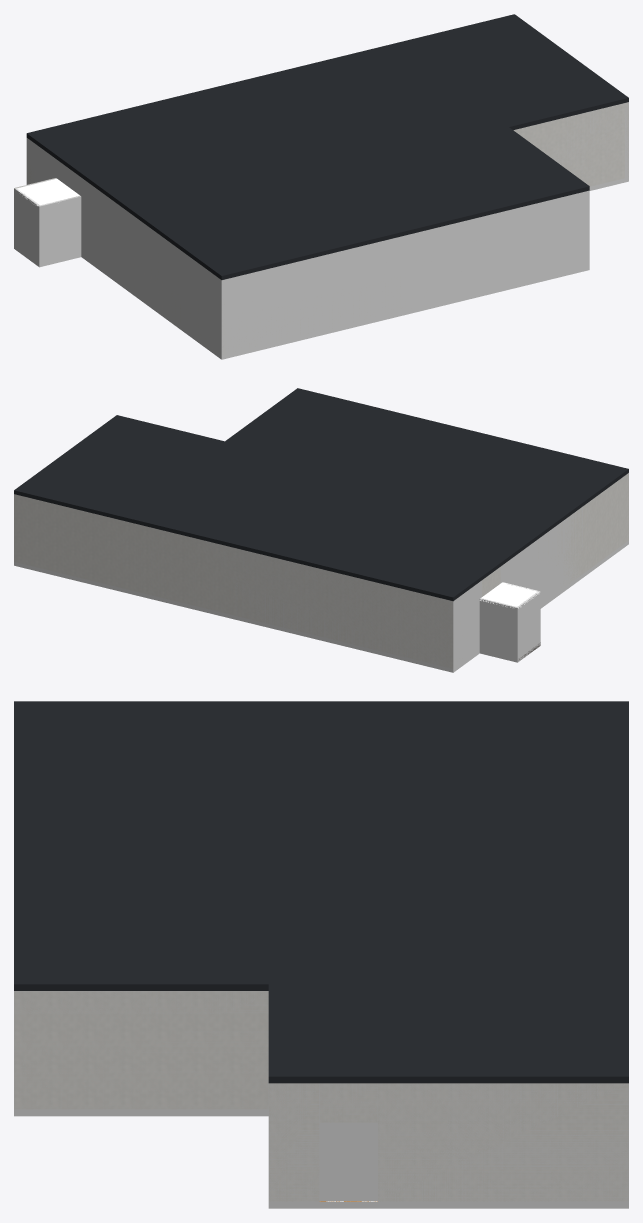
The model's file is gallery.glb.
The picture shows the model from 3 angles, top to bottom: view 1: azimuth 30°, elevation 25°; view 2: azimuth 150°, elevation 25°; view 3: azimuth 270°, elevation 25°; orthographic projection. The views are drawn at different scales.
Visible parts, largest first — view 1: Ceiling, COL_Wall_South, COL_Wall_West_South, Gallery_Walls, COL_Elevator_Wall_South, COL_Floor_South, COL_Elevator_Wall_West, COL_Wall_Notch_North, COL_Wall_West_North, Elevator_Car, COL_Floor_North; view 2: Ceiling, Gallery_Walls, COL_Wall_North, COL_Wall_West_South, COL_Floor_North, COL_Elevator_Wall_North, COL_Wall_West_North, COL_Elevator_Wall_West, Elevator_Car; view 3: Ceiling, Gallery_Walls, COL_Wall_East_North, COL_Door_Basement, COL_Wall_East_South, COL_Wall_Notch_West, COL_Floor_North, COL_Floor_South, COL_Wall_Basement_Lintel.
Boxes of the visible parts, bbox=[...] form: Ceiling: bbox=[26, 14, 628, 279]; COL_Wall_South: bbox=[219, 190, 589, 355]; COL_Wall_West_South: bbox=[79, 176, 225, 355]; Gallery_Walls: bbox=[26, 102, 628, 354]; COL_Elevator_Wall_South: bbox=[38, 196, 81, 262]; COL_Floor_South: bbox=[141, 266, 589, 359]; COL_Elevator_Wall_West: bbox=[14, 188, 41, 262]; COL_Wall_Notch_North: bbox=[515, 103, 624, 186]; COL_Wall_West_North: bbox=[26, 138, 58, 184]; Elevator_Car: bbox=[14, 178, 79, 205]; COL_Floor_North: bbox=[81, 177, 628, 300]; Ceiling: bbox=[14, 388, 628, 601]; Gallery_Walls: bbox=[14, 473, 628, 668]; COL_Wall_North: bbox=[19, 497, 455, 668]; COL_Wall_West_South: bbox=[500, 476, 623, 604]; COL_Floor_North: bbox=[14, 562, 556, 672]; COL_Elevator_Wall_North: bbox=[479, 598, 517, 658]; COL_Wall_West_North: bbox=[449, 580, 481, 667]; COL_Elevator_Wall_West: bbox=[516, 591, 540, 658]; Elevator_Car: bbox=[480, 582, 540, 660]; Ceiling: bbox=[14, 701, 628, 1083]; Gallery_Walls: bbox=[14, 991, 628, 1201]; COL_Wall_East_North: bbox=[378, 1083, 628, 1201]; COL_Door_Basement: bbox=[319, 1123, 377, 1200]; COL_Wall_East_South: bbox=[268, 1083, 319, 1201]; COL_Wall_Notch_West: bbox=[14, 991, 268, 1109]; COL_Floor_North: bbox=[268, 1201, 628, 1208]; COL_Floor_South: bbox=[14, 1109, 268, 1116]; COL_Wall_Basement_Lintel: bbox=[319, 1083, 377, 1122].
Bounding box in the file's own units: 26.5 × 4 × 16.9.
45 materials, 4 textured.
